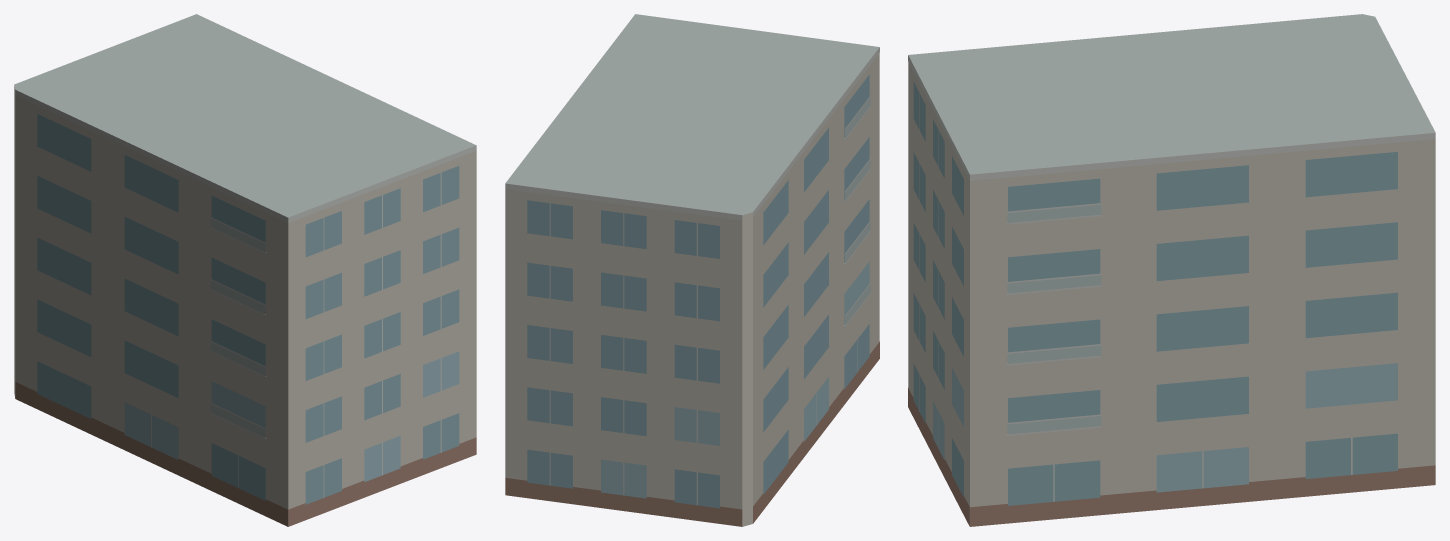
The model's file is survey-upis-32505056.glb.
The picture shows the model from 3 angles, left to right: view 1: azimuth 30°, elevation 25°; view 2: azimuth 150°, elevation 25°; view 3: azimuth 270°, elevation 25°; orthographic projection. The views are drawn at different scales.
Parts seen in each view (by area): view 1: survey-upis-32505056.tmp; view 2: survey-upis-32505056.tmp; view 3: survey-upis-32505056.tmp.
Part boxes in pixels (box(x1,y1,x2,y2)): survey-upis-32505056.tmp: box(14, 14, 476, 526); survey-upis-32505056.tmp: box(505, 14, 879, 526); survey-upis-32505056.tmp: box(908, 14, 1435, 526).
Size of the model in its own units: 13.61 by 13.9 by 18.88.
